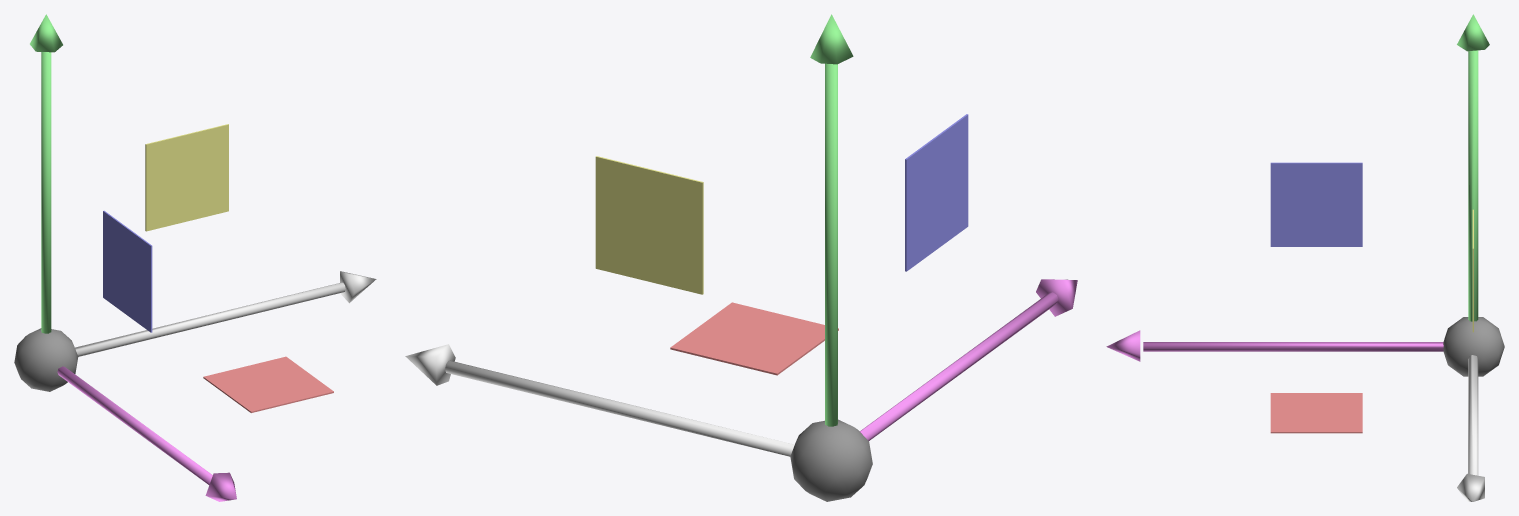
File: LocationGizmo.gltf
3 views of the same model, side by side, from view 1: azimuth 30°, elevation 25°; view 2: azimuth 150°, elevation 25°; view 3: azimuth 270°, elevation 25° (orthographic). The views are drawn at different scales.
Visible parts, largest first — view 1: LocationGizmo; view 2: LocationGizmo; view 3: LocationGizmo.
Boxes of the visible parts, x1,y1,x2,y2 form: LocationGizmo: (14,14,376,501); LocationGizmo: (405,14,1077,501); LocationGizmo: (1106,14,1504,501).
Bounding box in the file's own units: 1.08 × 1.08 × 1.08.
